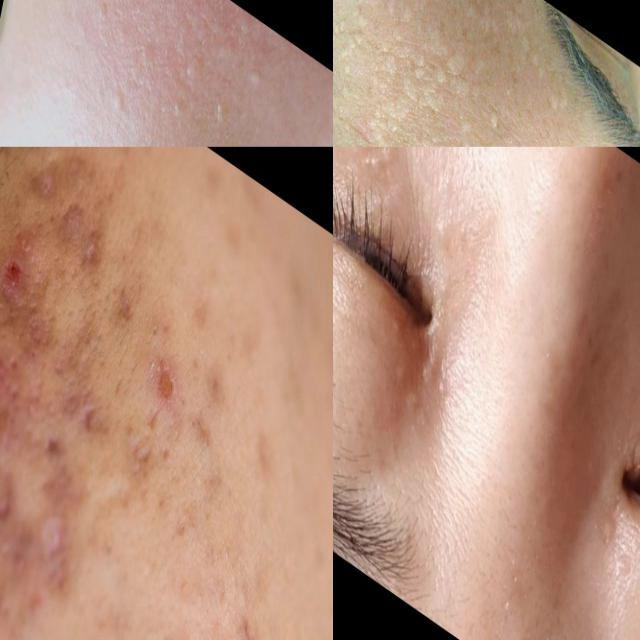Pimples: (576, 480, 640, 599), (18, 482, 82, 588), (390, 374, 435, 442), (0, 454, 23, 542), (0, 328, 19, 427), (244, 57, 270, 99), (403, 324, 423, 362)
